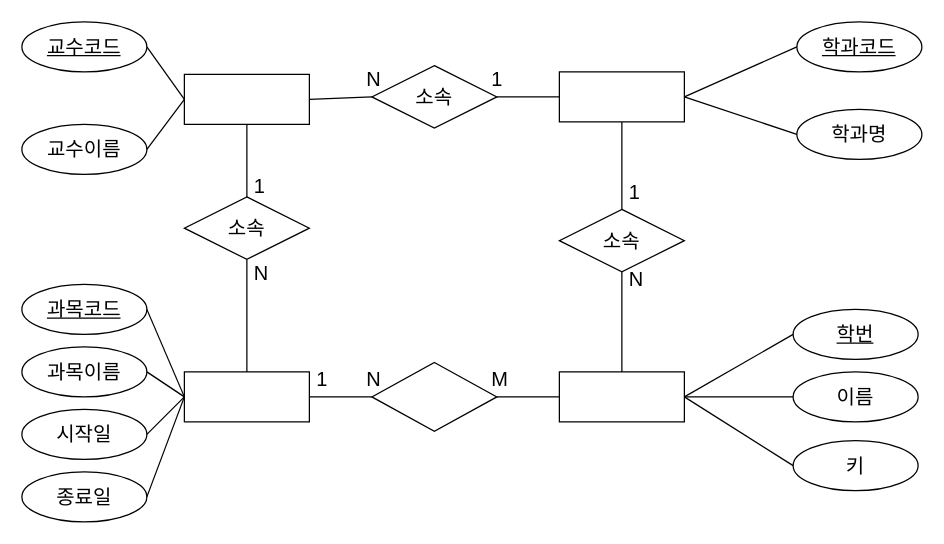
The diagram is 944 pixels wide and 544 high, and some of its shapes have lost their labels. The box of each missing label's shape, as (x1, y1, x2, y2) in pixels:
과목: (183, 371, 309, 422)
교수: (183, 73, 309, 124)
수강: (371, 361, 497, 431)
학과: (558, 71, 684, 122)
학생: (558, 371, 684, 422)
